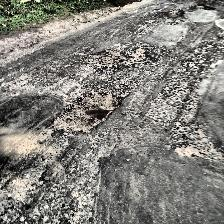pothole: (50, 90, 122, 134), (84, 46, 154, 68), (152, 8, 184, 20), (192, 3, 216, 11)
